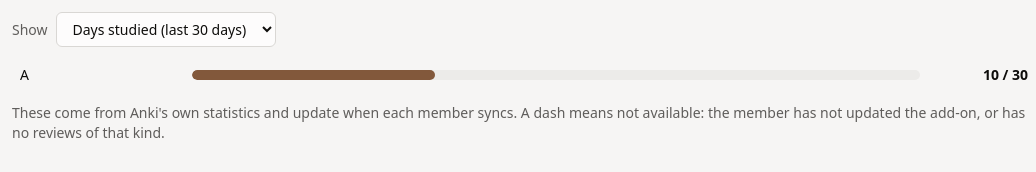
StatsChart › shows how many reviews a retention figure rests on
The image size is (1036, 172).
Step 1. Select "Retention today" in the dropdown named "Statistic" → (166, 30), box [56,12,276,47]
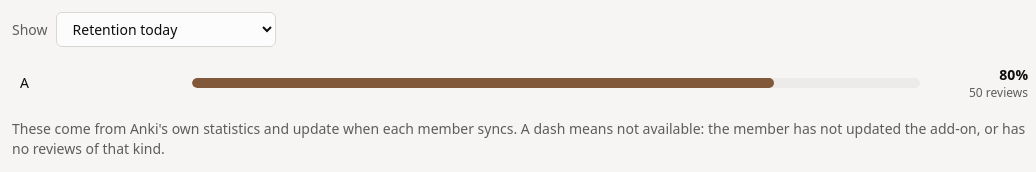
Check: the element with test id "stat-value" shows "80%", box [999,65,1028,84]
Check: the element with test id "stat-value" shows "50 reviews", box [969,84,1028,101]
